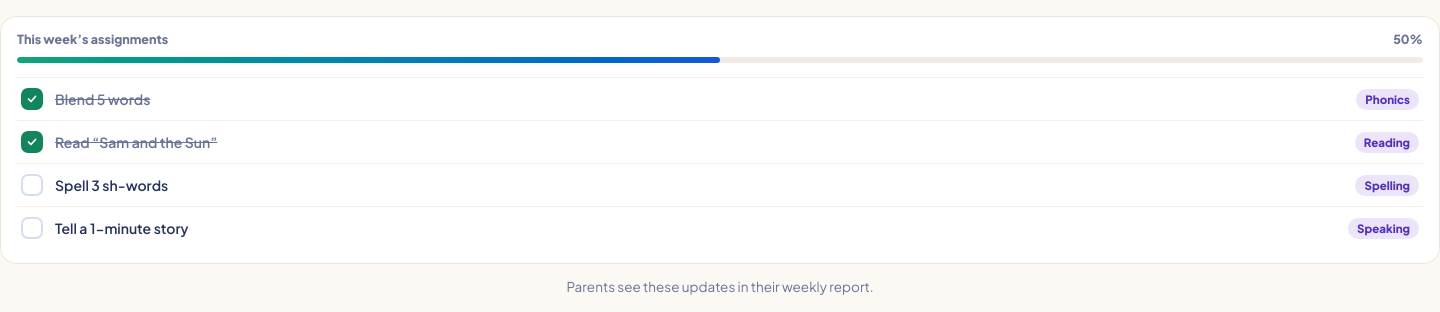
Test: WeeklyAssignments › unticks an item on a second tap, lowering the percentage
Click the button "Blend 5 words Phonics" at (103, 99), box x1=17 y1=77 x2=1423 y2=120
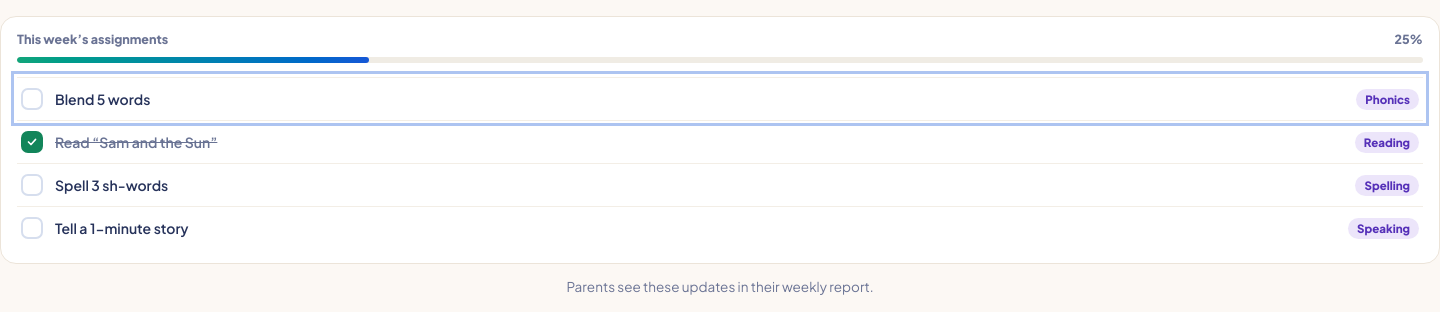
expect the text "Parents see these updates in their weekly report." is shown: met, box x1=566 y1=278 x2=874 y2=295
expect the text "25%" is shown: met, box x1=1394 y1=31 x2=1423 y2=47
